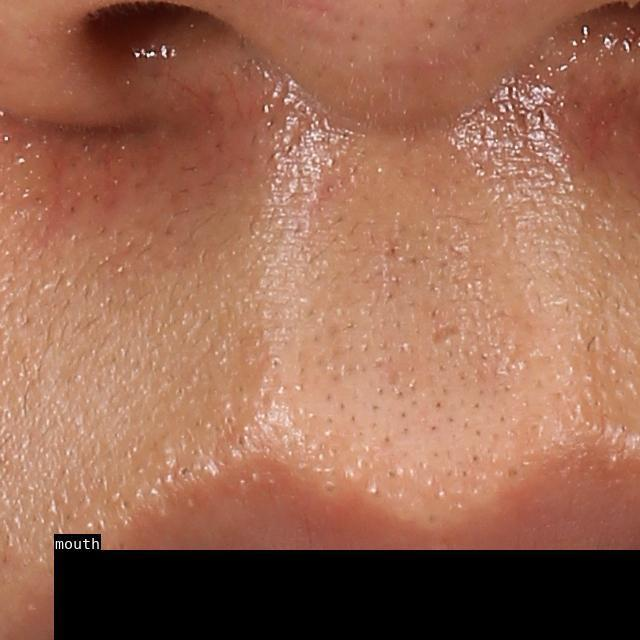atrophic_scar: (431, 317, 470, 349)
